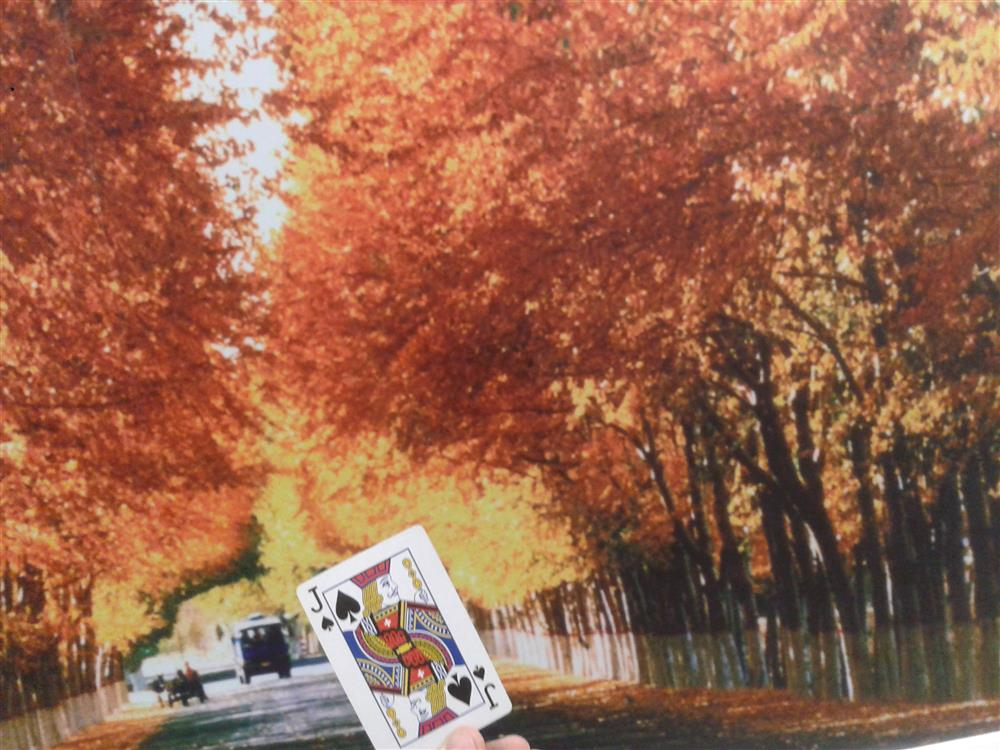poker: (278, 490, 519, 739)
